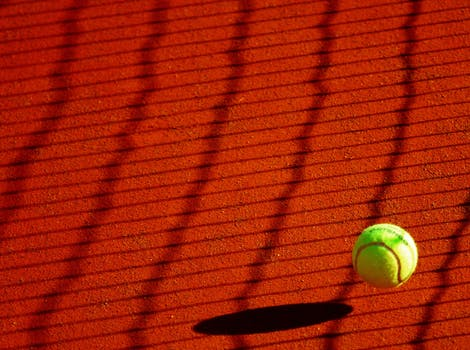tennis_ball: (351, 222, 419, 289)
